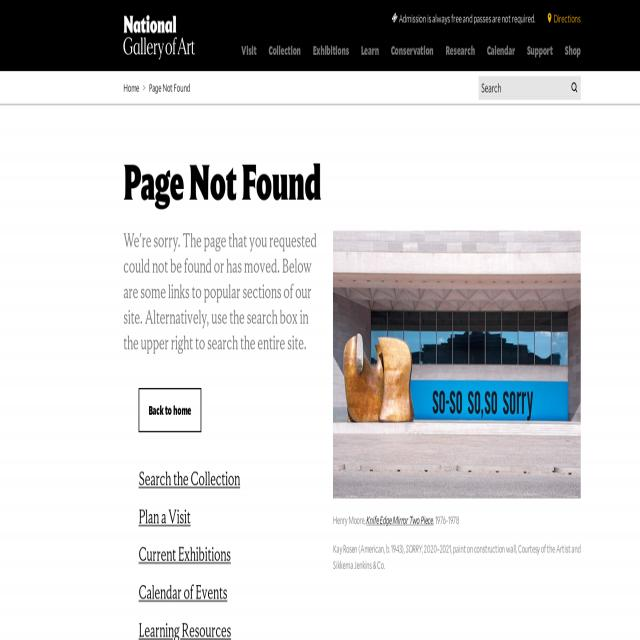button: (333, 232, 580, 498), (118, 0, 200, 71), (138, 389, 202, 431), (388, 29, 436, 72), (310, 29, 352, 72), (266, 29, 303, 72), (484, 29, 518, 72), (443, 29, 477, 72), (524, 29, 556, 72), (358, 29, 382, 72), (562, 29, 584, 72), (238, 29, 260, 72), (571, 82, 577, 92)
field: (479, 77, 580, 99)
